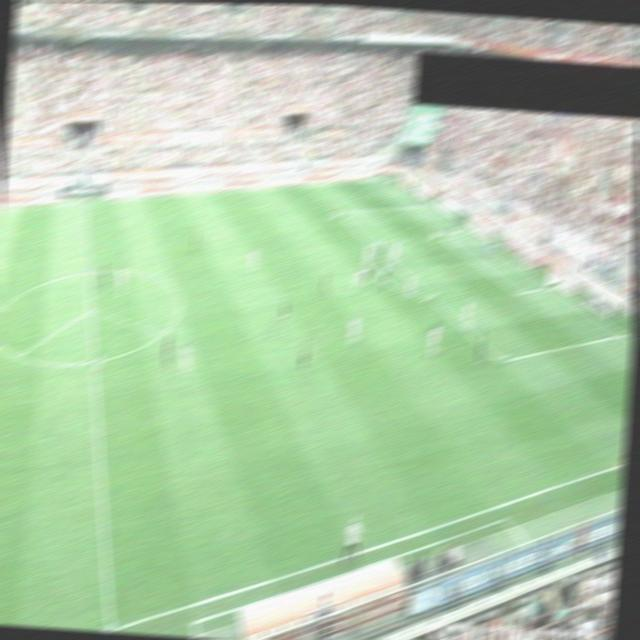bigarea_bottom_inner: (492, 355, 508, 367)
bigarea_bottom_outter: (615, 330, 631, 342)
bigarea_top_inner: (330, 206, 347, 218)
bigarea_top_outter: (420, 199, 437, 211)
bottom_arc_area_intersection: (421, 290, 437, 303)
corner: (381, 173, 397, 185)
halfcircle_bottom: (86, 356, 102, 369)
halfcircle_top: (81, 265, 97, 278)
midline_bottom_intersection: (101, 622, 119, 632)
midline_top_intersection: (76, 198, 92, 210)
smallarea_bottom_inner: (510, 287, 526, 299)
smallarea_bottom_outter: (544, 281, 560, 293)
smallarea_top_inner: (430, 229, 446, 241)
smallarea_top_outter: (459, 224, 476, 237)
top_arc_area_intersection: (366, 240, 382, 252)
